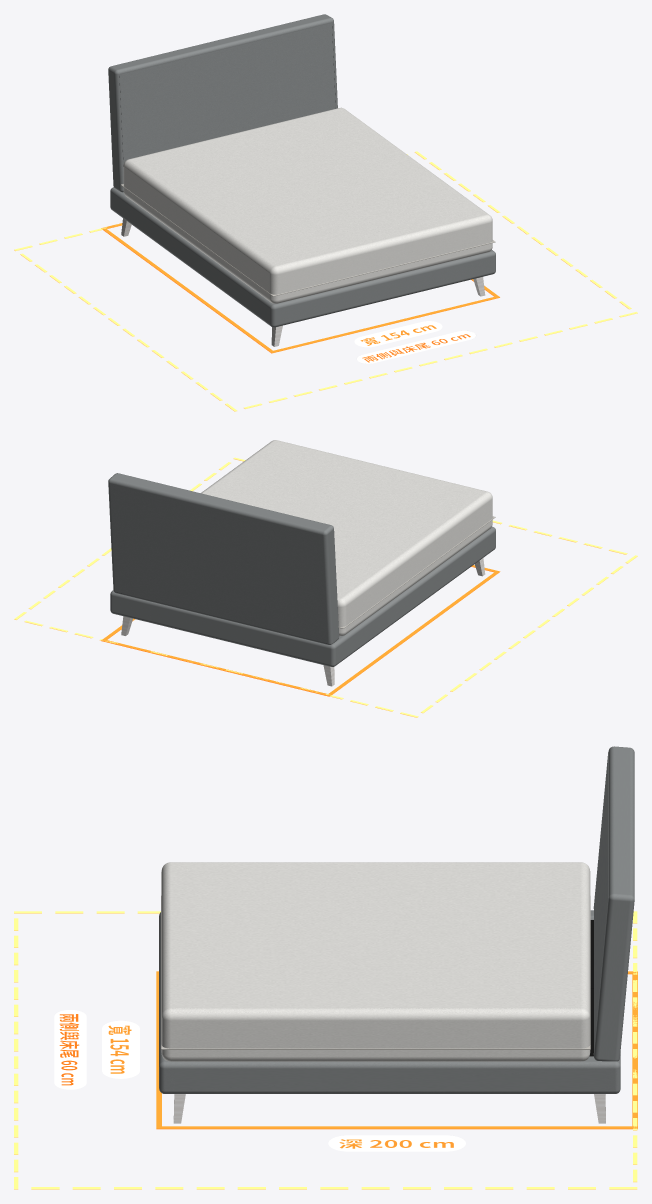
The model's file is ownEmma-f.glb.
3 views of the same model, one above another, from view 1: azimuth 30°, elevation 25°; view 2: azimuth 150°, elevation 25°; view 3: azimuth 270°, elevation 25° (orthographic). The views are drawn at different scales.
Parts seen in each view (by area): view 1: object 13, object 1, ar-frame, object 7, object 5, object 14; view 2: object 1, object 13, object 8, object 5, ar-frame; view 3: object 13, object 6, ar-frame, object 1, object 14.
Boxes of the visible parts, left/top/right/bottom form: object 13: left=123, top=107, right=492, bottom=303; object 1: left=108, top=14, right=337, bottom=192; ar-frame: left=14, top=151, right=637, bottom=411; object 7: left=267, top=250, right=495, bottom=327; object 5: left=110, top=187, right=281, bottom=327; object 14: left=121, top=184, right=495, bottom=296; object 1: left=108, top=473, right=339, bottom=644; object 13: left=201, top=440, right=492, bottom=635; object 8: left=110, top=590, right=339, bottom=666; object 5: left=324, top=526, right=495, bottom=666; ar-frame: left=14, top=457, right=637, bottom=717; object 13: left=161, top=862, right=590, bottom=1061; object 6: left=159, top=1056, right=620, bottom=1093; ar-frame: left=14, top=911, right=637, bottom=1189; object 1: left=594, top=746, right=634, bottom=1061; object 14: left=161, top=896, right=590, bottom=1049.
Size of the model in its own units: 2.76 by 1.07 by 2.62.
12 materials, 8 textured.
